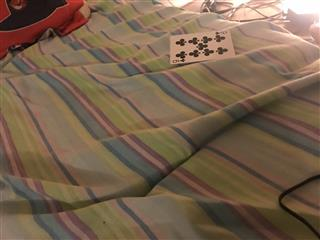NineOfClubs: (169, 29, 235, 64)
